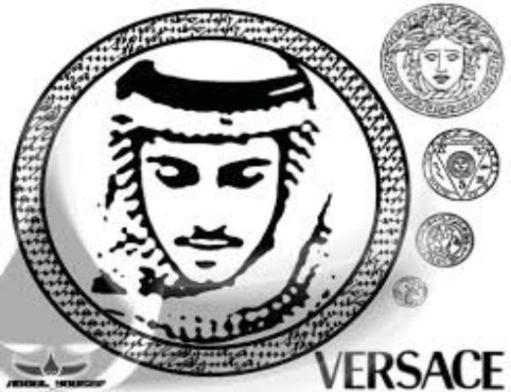VERSACE: (376, 0, 511, 119), (308, 337, 511, 390)
